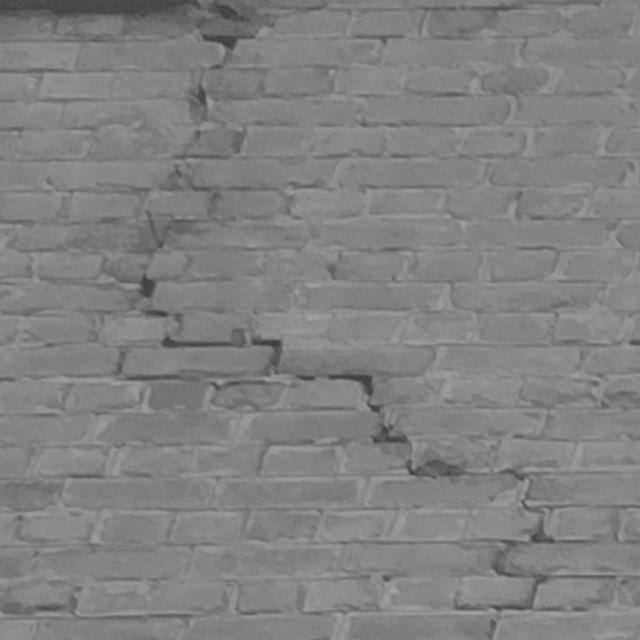crack: (138, 1, 554, 640)
